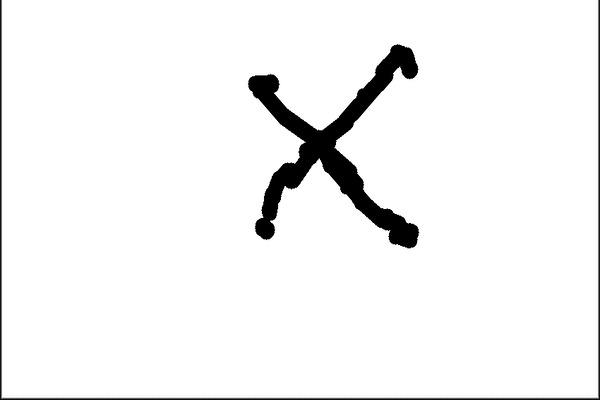X: (215, 35, 441, 258)
